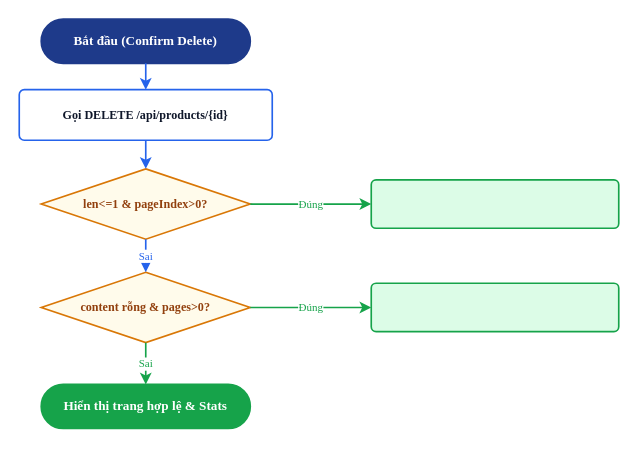
This 639x449 diagram has some shape labels left out. The box of each missing label's shape, as (x1, y1, x2, y2) in pixels:
Safety net: totalPages - 1: (370, 282, 619, 332)
setPageIndex(pageIndex - 1): (370, 179, 619, 229)
